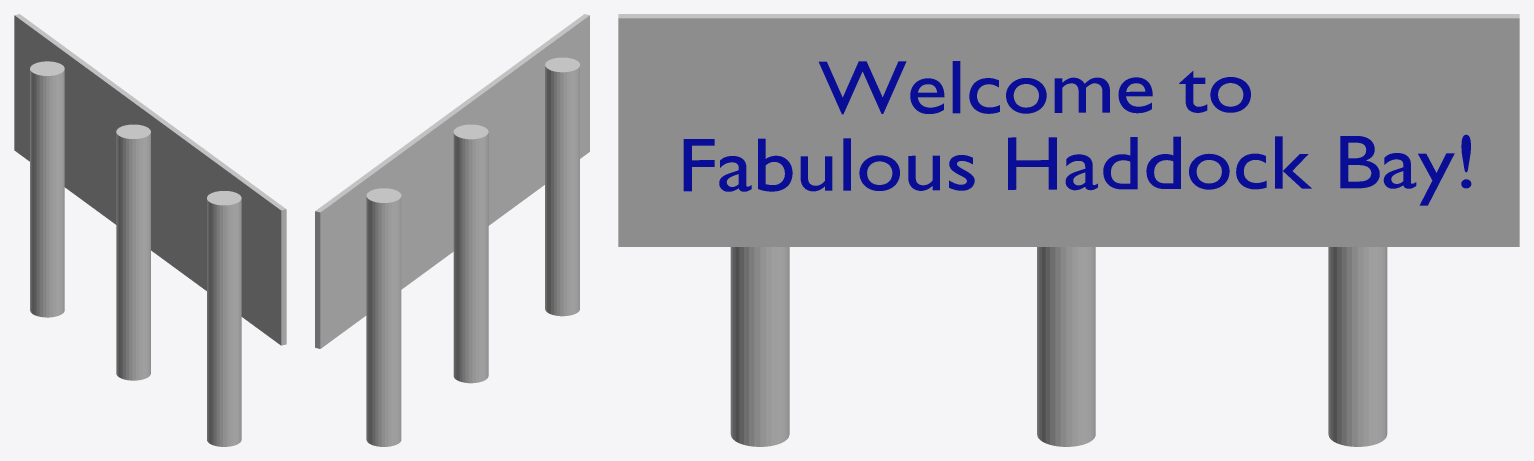
Rendered from haddBay_welSign.fbx.
3 views of the same model, side by side, from view 1: azimuth 30°, elevation 25°; view 2: azimuth 150°, elevation 25°; view 3: azimuth 270°, elevation 25° (orthographic). The views are drawn at different scales.
Parts seen in each view (by area): view 1: Cube, Cylinder.002, Cylinder.001, Cylinder; view 2: Cube, Cylinder.002, Cylinder.001, Cylinder; view 3: Cube, Text, Cylinder, Cylinder.001, Cylinder.002.
Boxes of the visible parts, box(x1,y1,x2,y2) form: Cube: box(14, 14, 286, 345); Cylinder.002: box(116, 124, 150, 380); Cylinder.001: box(30, 61, 64, 317); Cylinder: box(207, 191, 241, 446); Cube: box(315, 14, 589, 348); Cylinder.002: box(453, 124, 488, 383); Cylinder.001: box(366, 188, 401, 446); Cylinder: box(545, 57, 579, 316); Cube: box(618, 14, 1519, 246); Text: box(683, 61, 1471, 205); Cylinder: box(730, 247, 789, 446); Cylinder.001: box(1328, 247, 1387, 446); Cylinder.002: box(1037, 247, 1095, 446).
Size of the model in its own units: 62.37 by 379 by 715.
